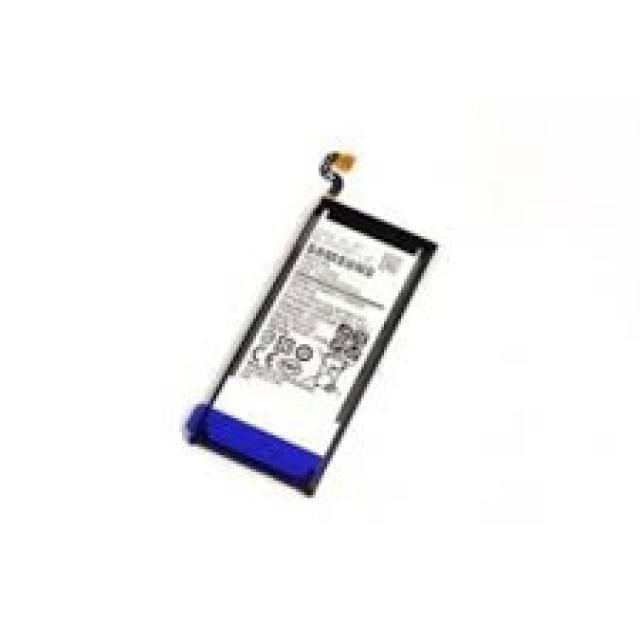non-organic waste: (188, 148, 437, 502)
